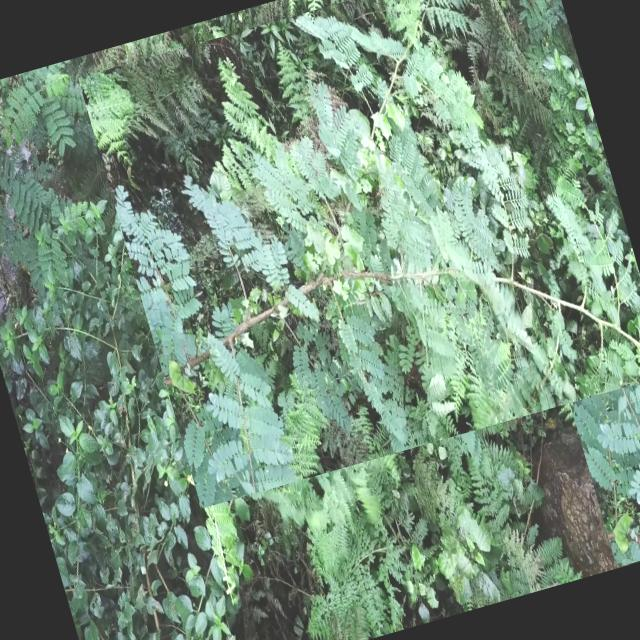Mysore-Thorn-Weed: (78, 0, 640, 508), (524, 217, 640, 566)
